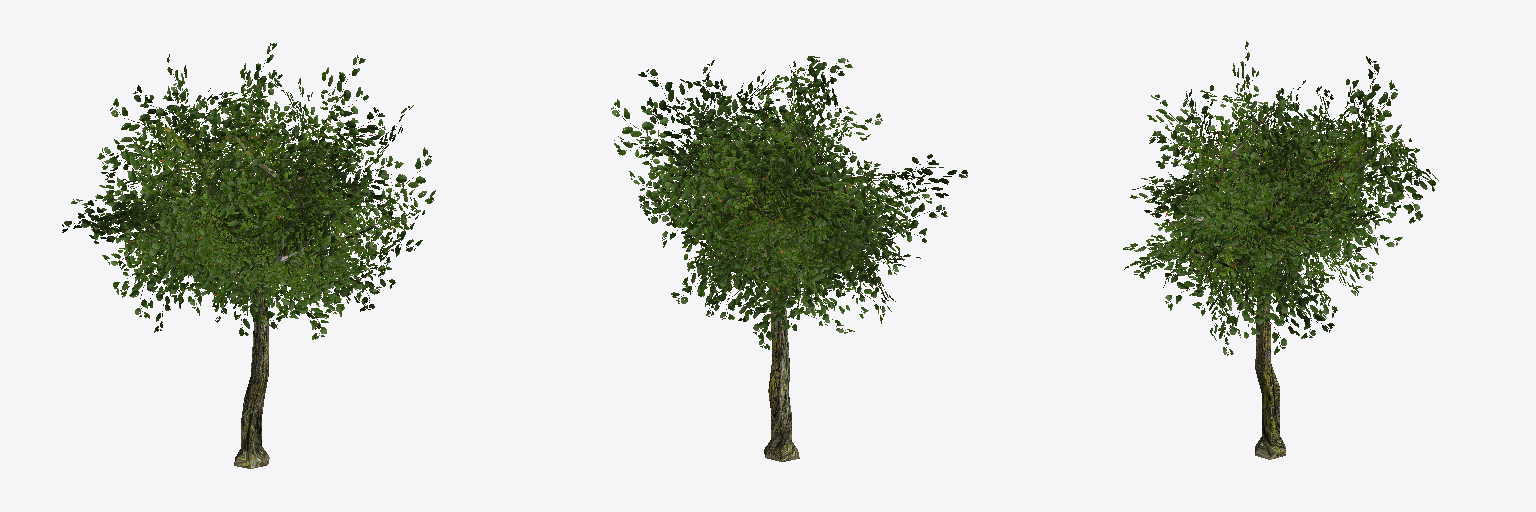
3 renders of one model, left to right at view 1: azimuth 30°, elevation 25°; view 2: azimuth 150°, elevation 25°; view 3: azimuth 270°, elevation 25°, orthographic.
Parts seen in each view (by area): view 1: Tree_Branch, Cube; view 2: Tree_Branch, Cube; view 3: Tree_Branch, Cube.
Boxes of the visible parts, <box> form: Tree_Branch: <box>62,43,435,339</box>; Cube: <box>149,127,372,468</box>; Tree_Branch: <box>611,56,967,349</box>; Cube: <box>692,103,873,461</box>; Tree_Branch: <box>1123,41,1438,355</box>; Cube: <box>1180,109,1380,459</box>.
Bounding box in the file's own units: 1.4 × 1.65 × 1.26.
1 materials, 1 textured.